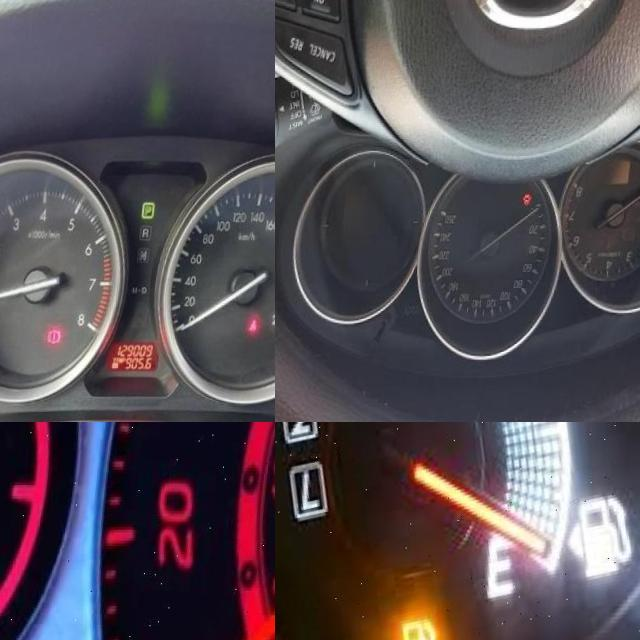Seat Belt: (255, 317, 267, 332)
